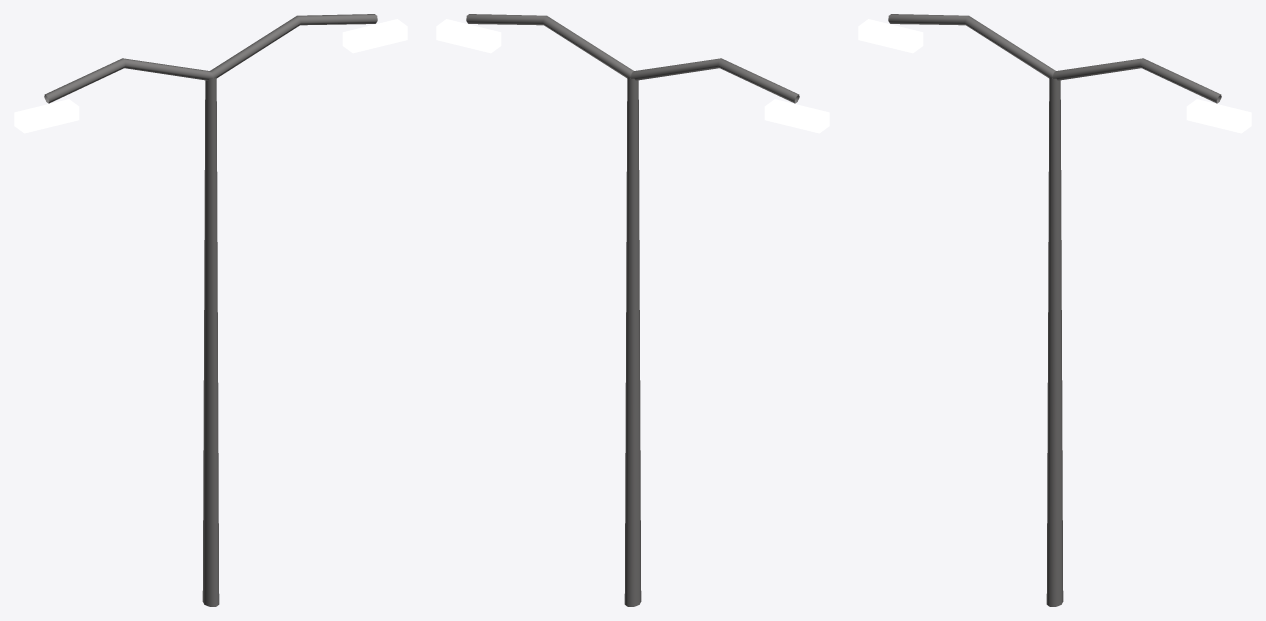
File: streetlight_d2.glb
The picture shows the model from 3 angles, left to right: view 1: azimuth 30°, elevation 25°; view 2: azimuth 150°, elevation 25°; view 3: azimuth 330°, elevation 25°; orthographic projection.
Visible parts, largest first — view 1: streetlight_d2; view 2: streetlight_d2; view 3: streetlight_d2.
Part boxes in pixels (x1,y1,x2,y2): streetlight_d2: (14,14,407,606); streetlight_d2: (436,14,829,606); streetlight_d2: (858,14,1251,606).
Bounding box in the file's own units: 3.5 × 4.93 × 0.16.
2 materials, 1 textured.
